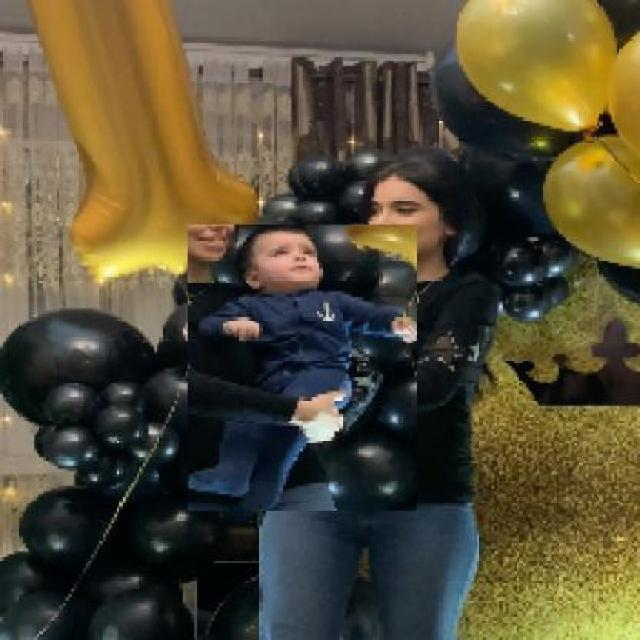adult: (256, 147, 500, 640)
child: (186, 225, 417, 512)
